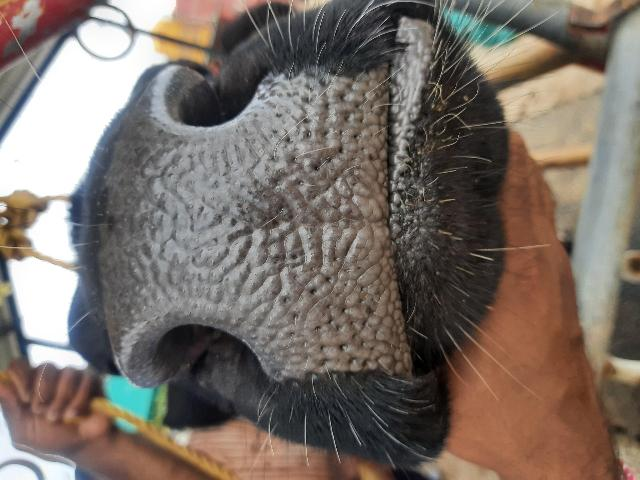Muzzle: (112, 87, 412, 376)
